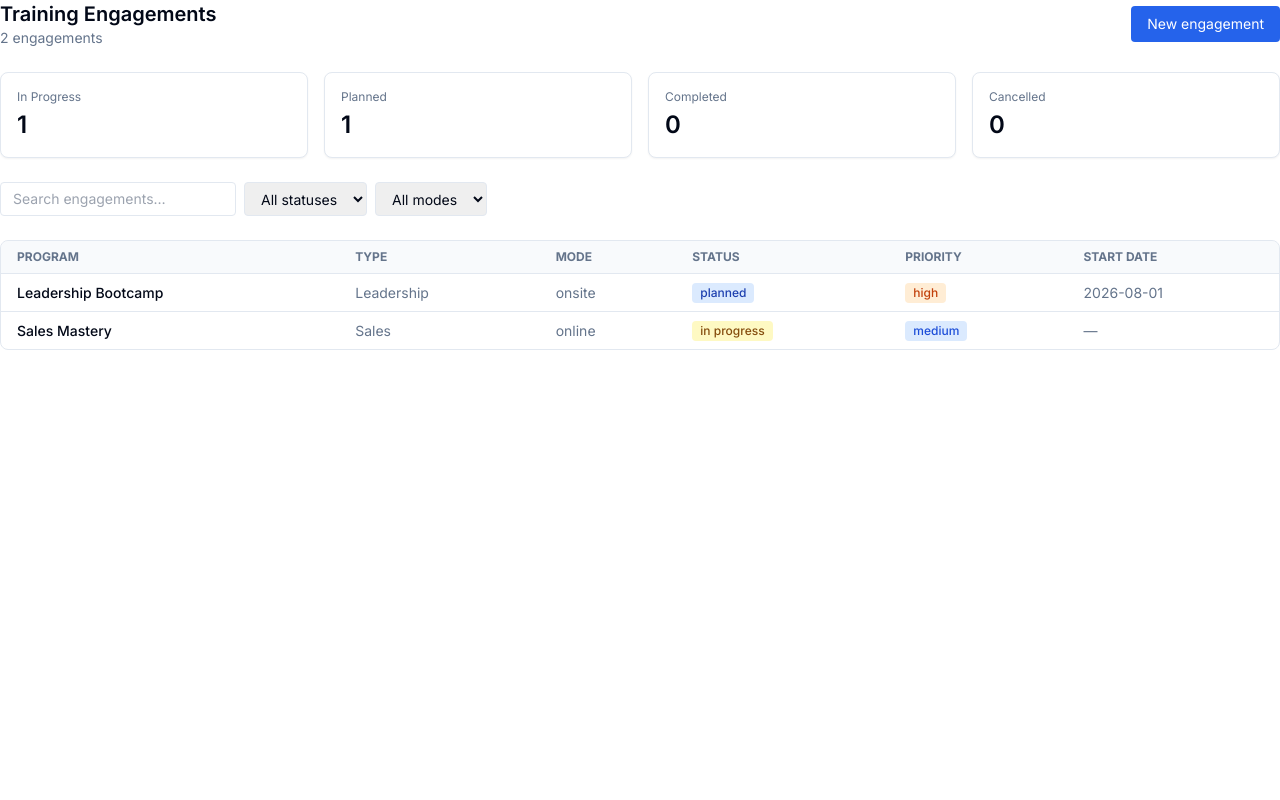
it: TrainingCenter — add engagement button › opens create dialog on click
This screenshot has width=1280, height=800.
Click the button with test id "add-engagement-btn" at {"x": 1206, "y": 24}, box [1131,6,1279,42]
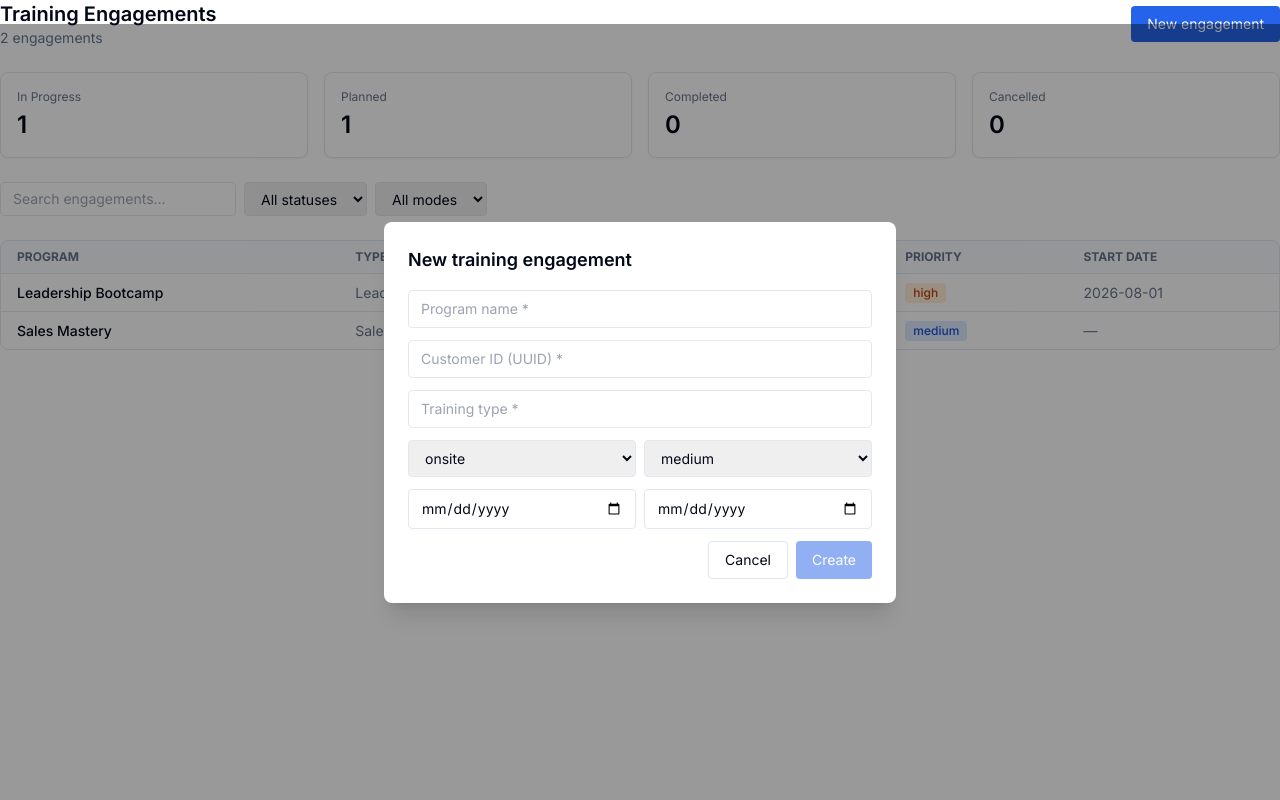
Expected: the element with test id "create-dialog" is shown
